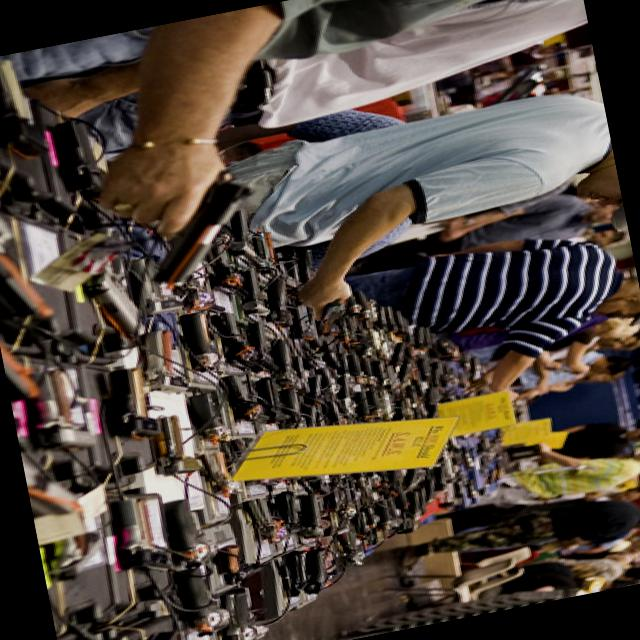handgun: (102, 134, 288, 294)
